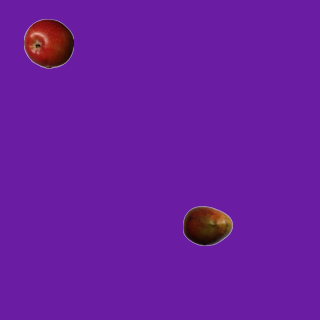Apple Braeburn: (23, 18, 73, 68)
Mango Red: (182, 200, 232, 250)
